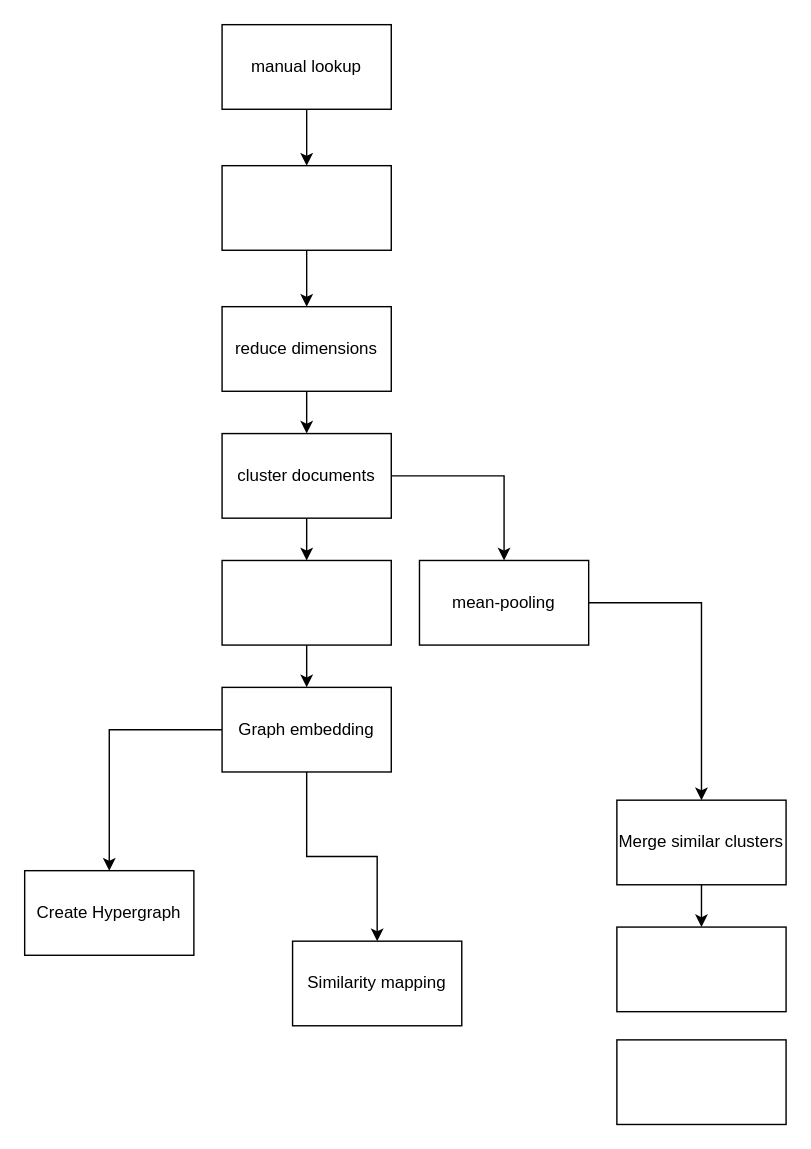
Image size: 811x1149. Some labels were removed from this diagram. Here are the shapes that lost their labels. From the top down, the centre of each, then its label:
At [306,207]: "vectorize documents (USEv4)".
At [306,602]: "sum-pooling".
At [700,969]: "Summarize topics (pegasus)".
At [700,1081]: "Topic labels".
